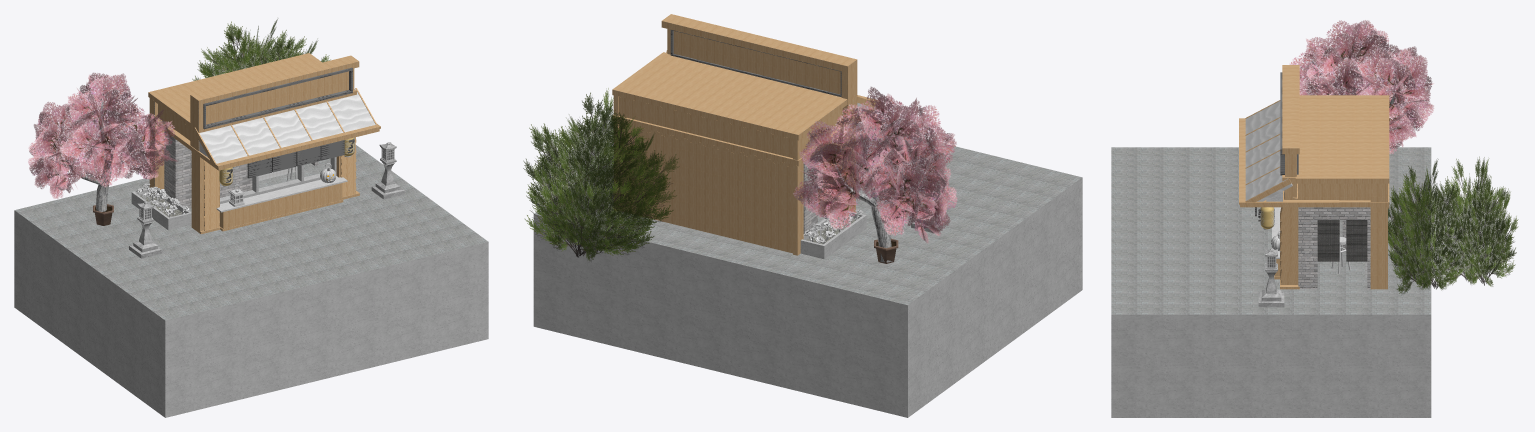
File: Shop.obj
3 renders of one model, left to right at view 1: azimuth 30°, elevation 25°; view 2: azimuth 150°, elevation 25°; view 3: azimuth 270°, elevation 25°, orthographic. The views are drawn at different scales.
Parts seen in each view (by area): view 1: Part589, Part590, Leaves1, Union25, Hedge11, Part519, Part558, Part465, Part277, Part536, Union27, Part283 (+10 smaller); view 2: Part589, Part590, Leaves1, Hedge11, Part566, Part558, Part523, Part381, Part536, Trunk1, Part537, Part559 (+7 smaller); view 3: Part590, Part589, Hedge11, Leaves1, Part558, Union25, Union26, Part570, Part536, Part378, Part467, Part466 (+7 smaller).
Part boxes in pixels (<box>): Part589: <box>14,210,488,417</box>; Part590: <box>15,145,488,320</box>; Leaves1: <box>28,72,177,198</box>; Union25: <box>199,89,375,163</box>; Hedge11: <box>192,19,330,80</box>; Part519: <box>206,68,354,124</box>; Part558: <box>148,53,321,122</box>; Part465: <box>164,131,252,208</box>; Part277: <box>223,183,342,228</box>; Part536: <box>190,55,358,100</box>; Union27: <box>203,67,352,129</box>; Part283: <box>216,176,347,212</box>; Part589: <box>533,177,1082,417</box>; Part590: <box>534,123,1081,305</box>; Leaves1: <box>793,87,957,243</box>; Hedge11: <box>523,88,679,261</box>; Part566: <box>618,125,792,253</box>; Part558: <box>612,52,846,134</box>; Part523: <box>667,29,840,94</box>; Part381: <box>618,97,792,167</box>; Part536: <box>662,14,856,66</box>; Trunk1: <box>835,115,919,262</box>; Part537: <box>661,21,847,71</box>; Part559: <box>612,89,798,140</box>; Part590: <box>1111,147,1431,314</box>; Part589: <box>1111,314,1431,417</box>; Hedge11: <box>1388,156,1518,293</box>; Leaves1: <box>1289,20,1434,154</box>; Part558: <box>1295,95,1389,178</box>; Union25: <box>1245,101,1292,201</box>; Union26: <box>1298,207,1370,288</box>; Part570: <box>1370,183,1387,289</box>; Part536: <box>1282,65,1299,148</box>; Part378: <box>1298,183,1370,208</box>; Part467: <box>1317,220,1339,261</box>; Part466: <box>1346,220,1367,261</box>.
Size of the model in its own units: 47.35 by 33.26 by 47.06.
Materials: 61 (59 with a texture image).
